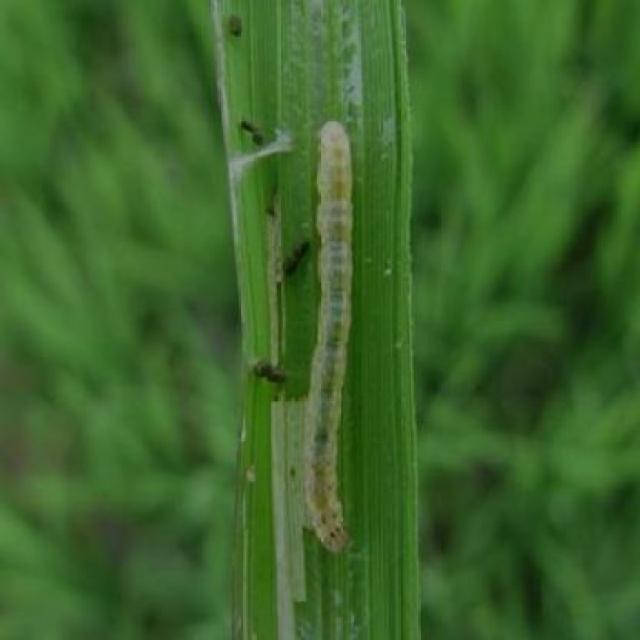leaf-folder: (263, 113, 386, 582)
